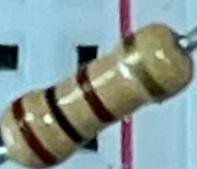Black: (38, 82, 92, 146)
Brown: (5, 93, 66, 169)
Side-Gold: (116, 30, 174, 106), (71, 60, 124, 129)
